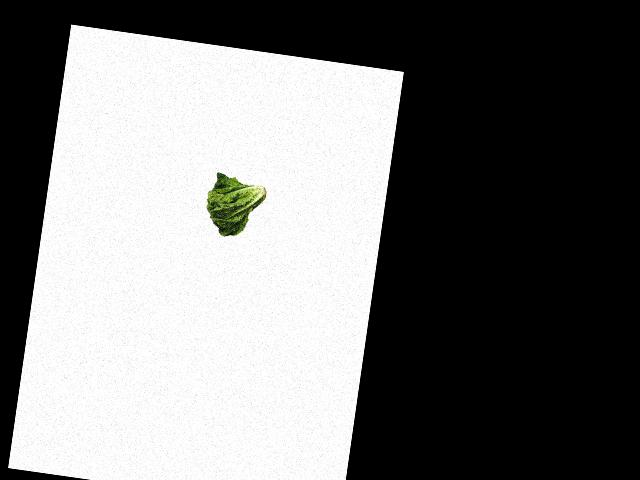lettuce: (199, 169, 272, 242)
